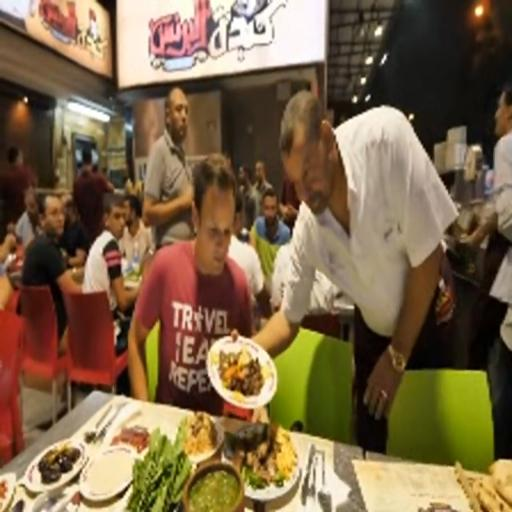nao-violencia: (120, 74, 466, 434)
